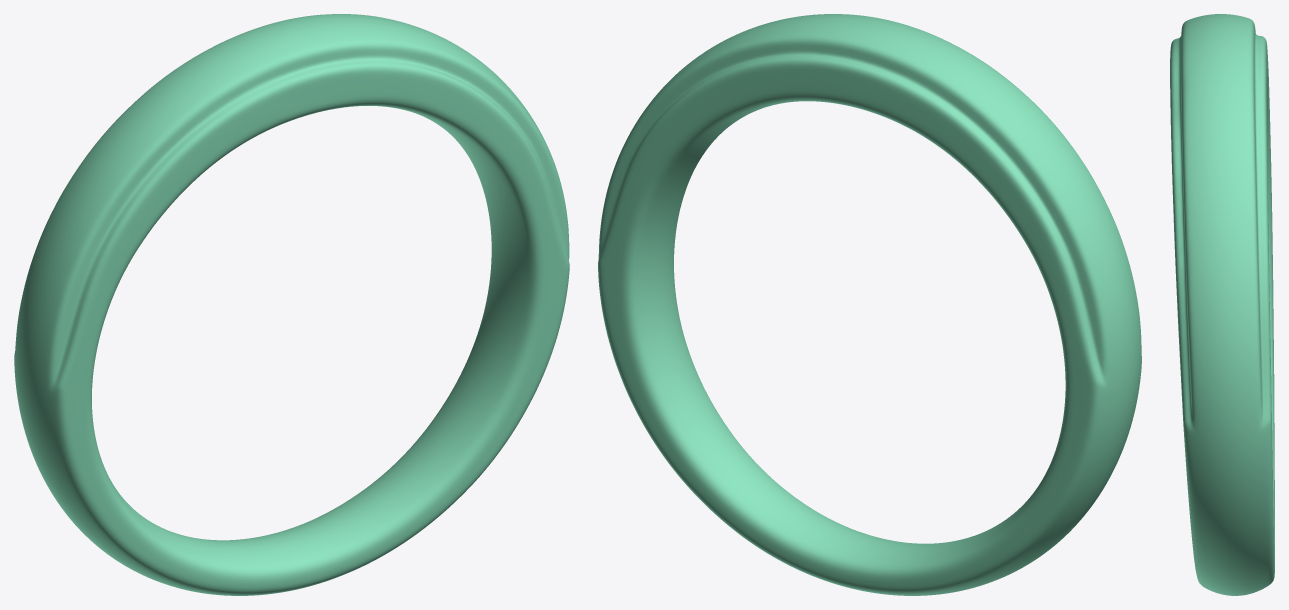
The picture shows the model from 3 angles, left to right: view 1: azimuth 30°, elevation 25°; view 2: azimuth 150°, elevation 25°; view 3: azimuth 270°, elevation 25°; orthographic projection. The views are drawn at different scales.
Parts seen in each view (by area): view 1: Metal03; view 2: Metal03; view 3: Metal03.
Part boxes in pixels (box(x1,y1,x2,y2)): Metal03: box(14, 14, 569, 595); Metal03: box(598, 14, 1141, 595); Metal03: box(1170, 14, 1274, 595).
Bounding box in the file's own units: 21.69 × 21.88 × 3.94.
